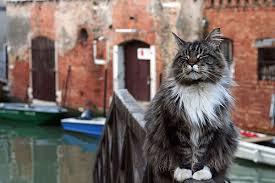cat: (141, 25, 248, 182)
